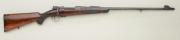gun: (3, 5, 176, 33)
